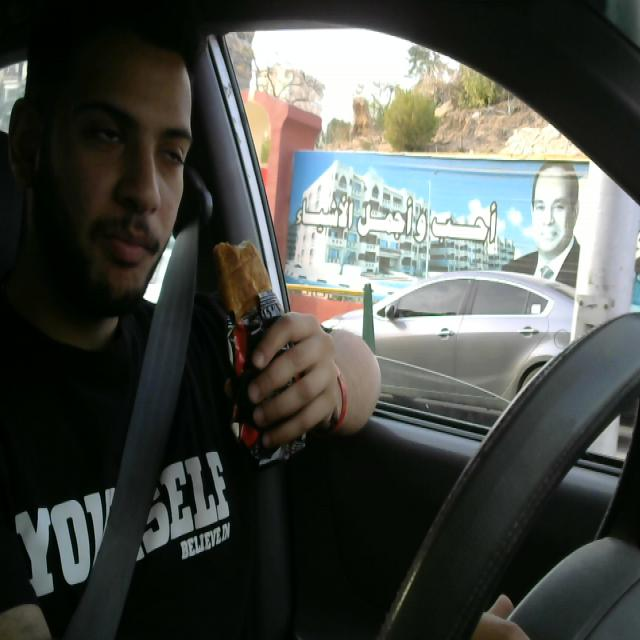eating: (206, 237, 314, 475)
